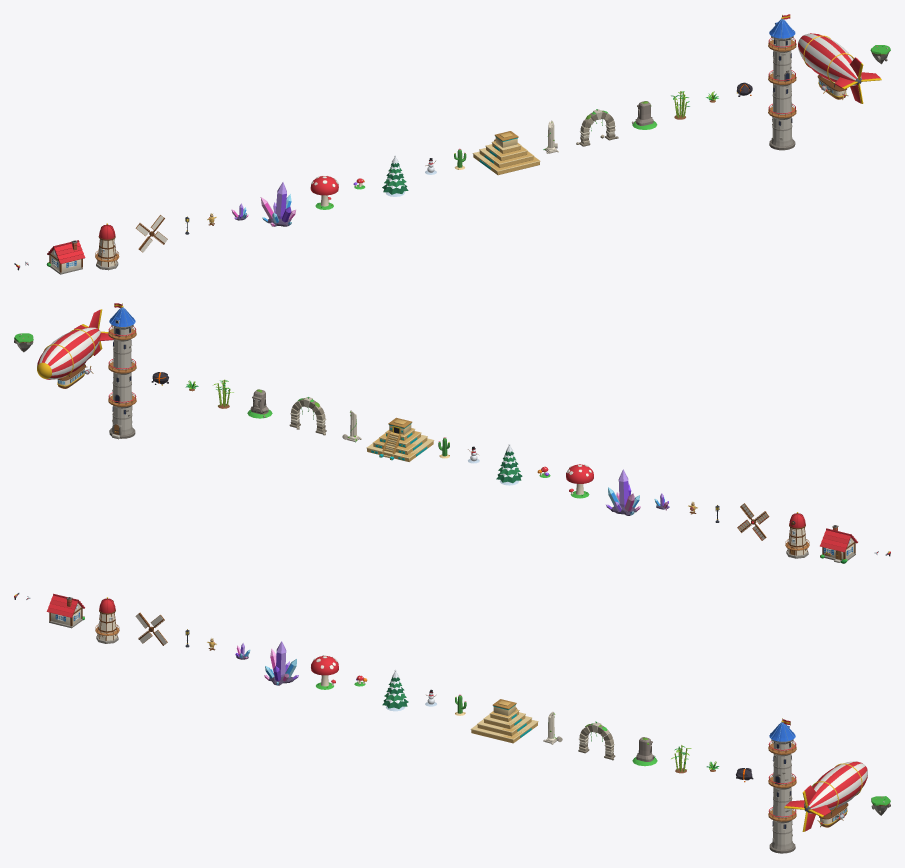
Rendered from GrapplerModeller.glb.
The picture shows the model from 3 angles, top to bottom: view 1: azimuth 30°, elevation 25°; view 2: azimuth 150°, elevation 25°; view 3: azimuth 330°, elevation 25°; orthographic projection.
Parts seen in each view (by area): view 1: Luftskip, Taarn, Pyramide, Hus, KrystallStor, Vindmolle, Ruinbue, Sopp, Furu; view 2: Taarn, Luftskip, Pyramide, Hus, KrystallStor, Vindmolle, Ruinbue, Sopp, Furu; view 3: Luftskip, Taarn, Pyramide, Hus, KrystallStor, Vindmolle, Ruinbue, Sopp, Furu.
Boxes of the visible parts, x1=… form: Luftskip: x1=798, y1=33, x2=881, y2=103; Taarn: x1=768, y1=14, x2=796, y2=150; Pyramide: x1=472, y1=131, x2=540, y2=175; Hus: x1=46, y1=240, x2=85, y2=274; KrystallStor: x1=260, y1=182, x2=295, y2=226; Vindmolle: x1=95, y1=223, x2=119, y2=270; Ruinbue: x1=576, y1=109, x2=618, y2=146; Sopp: x1=310, y1=175, x2=338, y2=209; Furu: x1=382, y1=155, x2=408, y2=196; Taarn: x1=108, y1=303, x2=136, y2=439; Luftskip: x1=37, y1=309, x2=113, y2=388; Pyramide: x1=366, y1=417, x2=434, y2=461; Hus: x1=820, y1=525, x2=857, y2=563; KrystallStor: x1=606, y1=469, x2=640, y2=515; Vindmolle: x1=785, y1=512, x2=809, y2=558; Ruinbue: x1=289, y1=397, x2=326, y2=435; Sopp: x1=566, y1=464, x2=593, y2=498; Furu: x1=496, y1=444, x2=522, y2=485; Luftskip: x1=784, y1=761, x2=867, y2=831; Taarn: x1=768, y1=718, x2=796, y2=853; Pyramide: x1=470, y1=699, x2=538, y2=743; Hus: x1=46, y1=593, x2=84, y2=628; KrystallStor: x1=264, y1=641, x2=298, y2=685; Vindmolle: x1=95, y1=597, x2=119, y2=643; Ruinbue: x1=578, y1=721, x2=615, y2=760; Sopp: x1=311, y1=655, x2=338, y2=689; Furu: x1=382, y1=670, x2=408, y2=711.
Size of the model in its own units: 494 by 70.25 by 58.97.
1 material, 1 textured.
